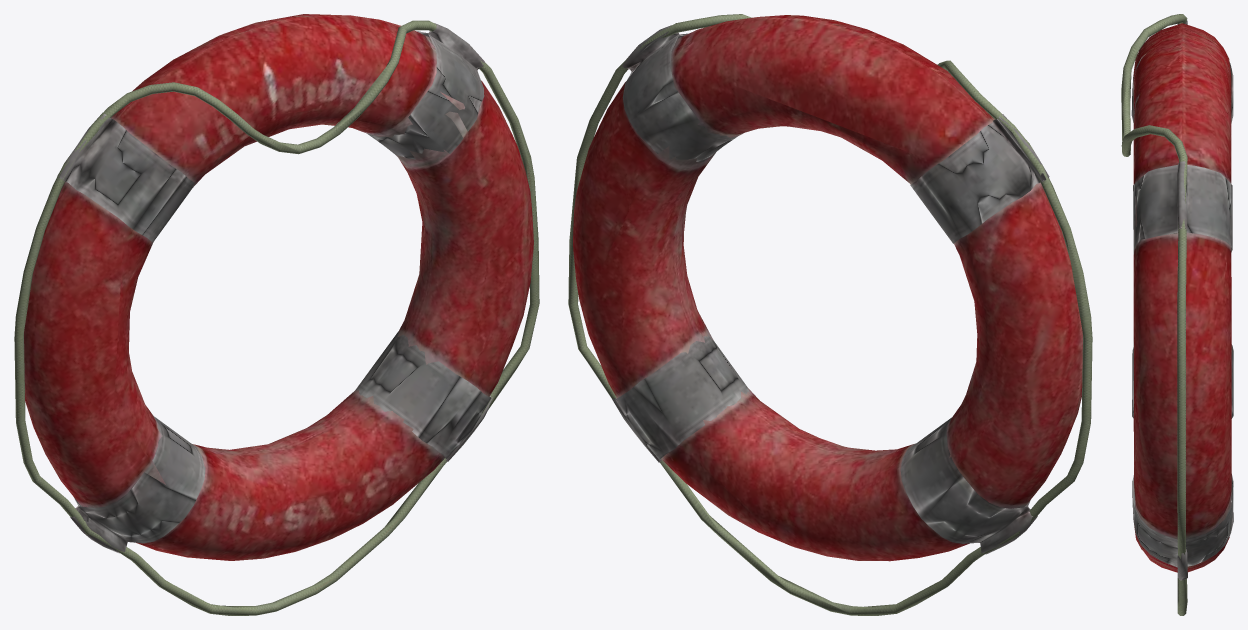
The model's file is lifebuoy_lod1.glb.
The picture shows the model from 3 angles, left to right: view 1: azimuth 30°, elevation 25°; view 2: azimuth 150°, elevation 25°; view 3: azimuth 270°, elevation 25°; orthographic projection. The views are drawn at different scales.
Parts seen in each view (by area): view 1: lifebuoy; view 2: lifebuoy; view 3: lifebuoy.
Part boxes in pixels (x1,y1,x2,y2): lifebuoy: (14, 14, 539, 615); lifebuoy: (568, 14, 1092, 615); lifebuoy: (1121, 14, 1233, 615).
Bounding box in the file's own units: 0.783 × 0.8412 × 0.1548.
1 material, 1 textured.
